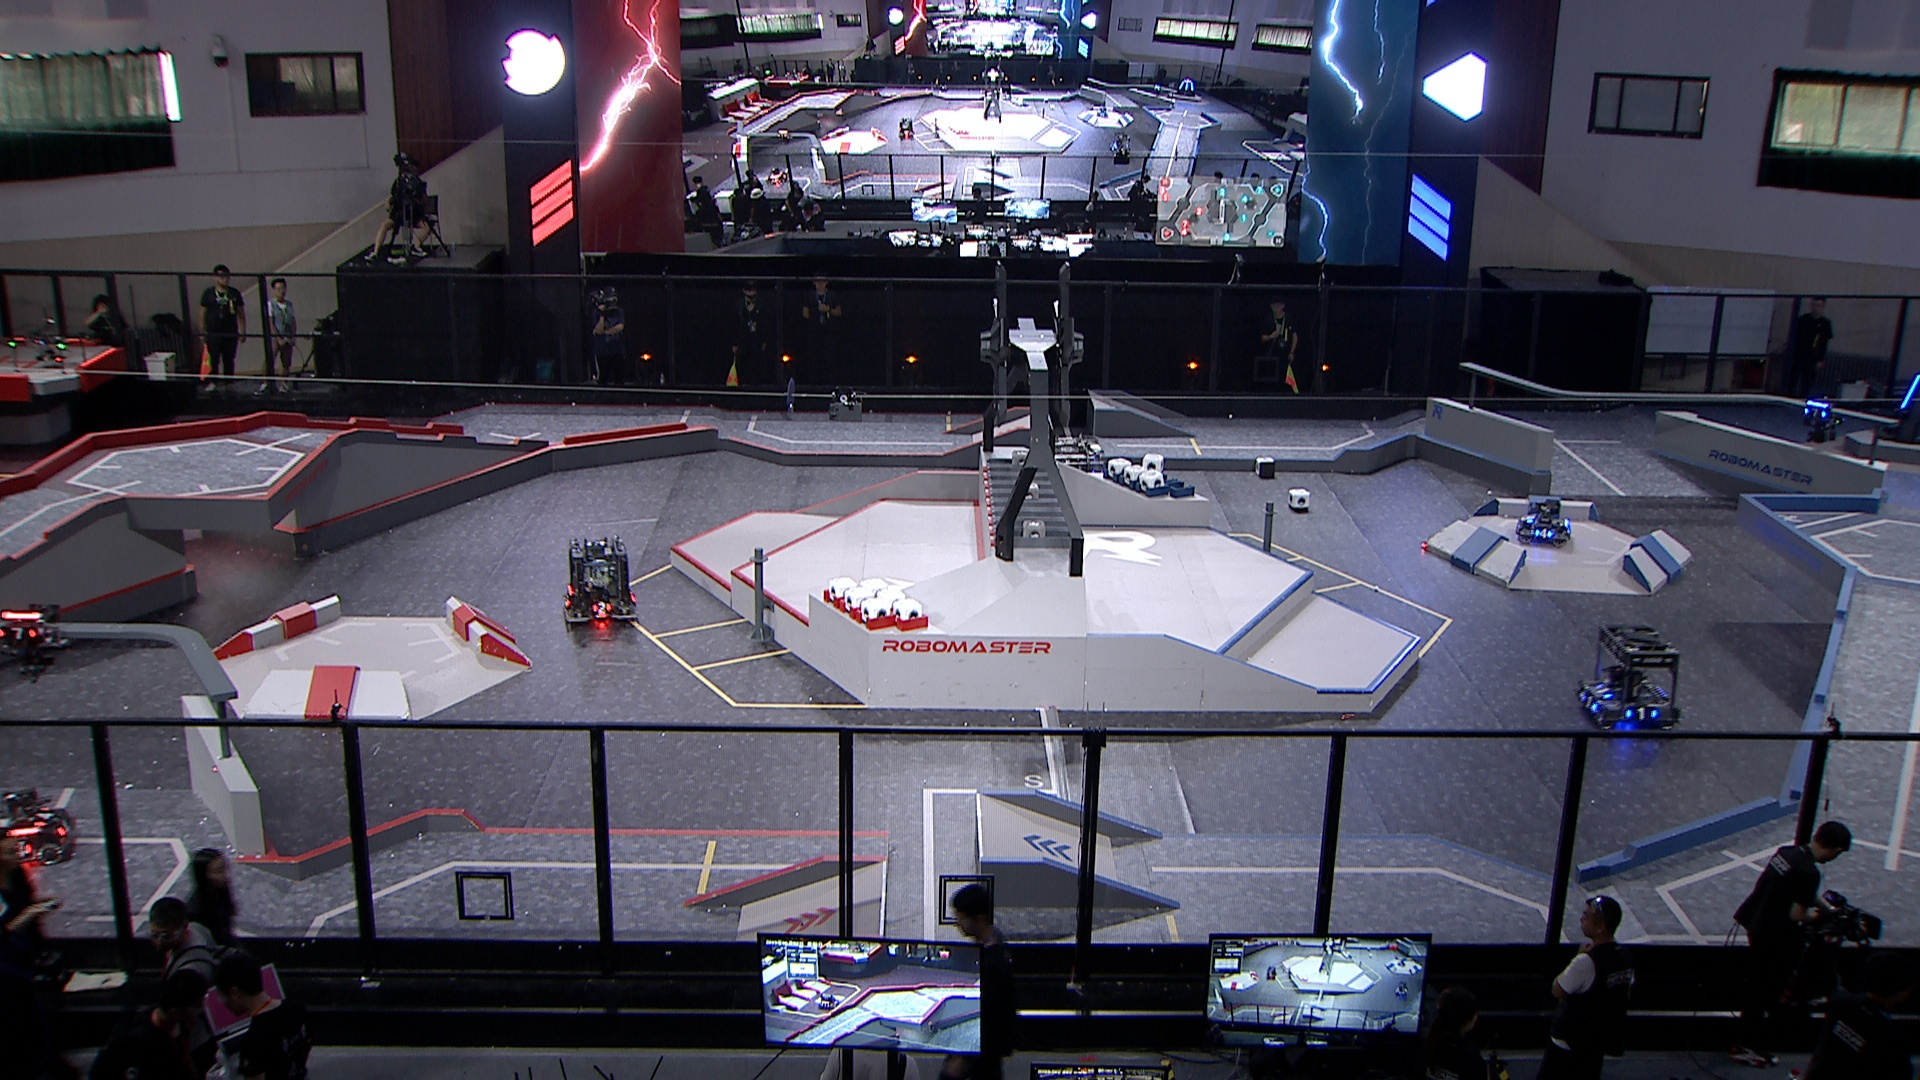armor: (1899, 371, 1920, 411), (1623, 707, 1658, 723), (29, 806, 53, 825), (11, 840, 34, 858), (57, 816, 76, 837), (1590, 680, 1613, 698), (589, 603, 613, 618), (1582, 692, 1600, 713), (1803, 405, 1826, 419), (1532, 526, 1553, 541)
base: (1878, 349, 1920, 448)
car: (1575, 621, 1684, 732), (558, 534, 640, 626), (1039, 438, 1112, 510), (1513, 498, 1572, 550)
ignore: (1106, 133, 1133, 154), (1172, 76, 1197, 98), (897, 116, 916, 142), (765, 167, 789, 186), (1093, 105, 1112, 119), (775, 129, 790, 142)
watcher: (1797, 394, 1842, 443)
